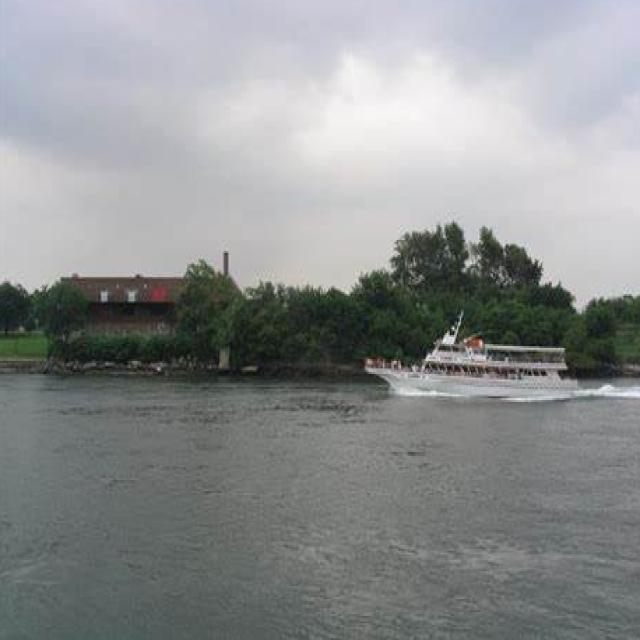houseboat: (356, 308, 590, 397)
